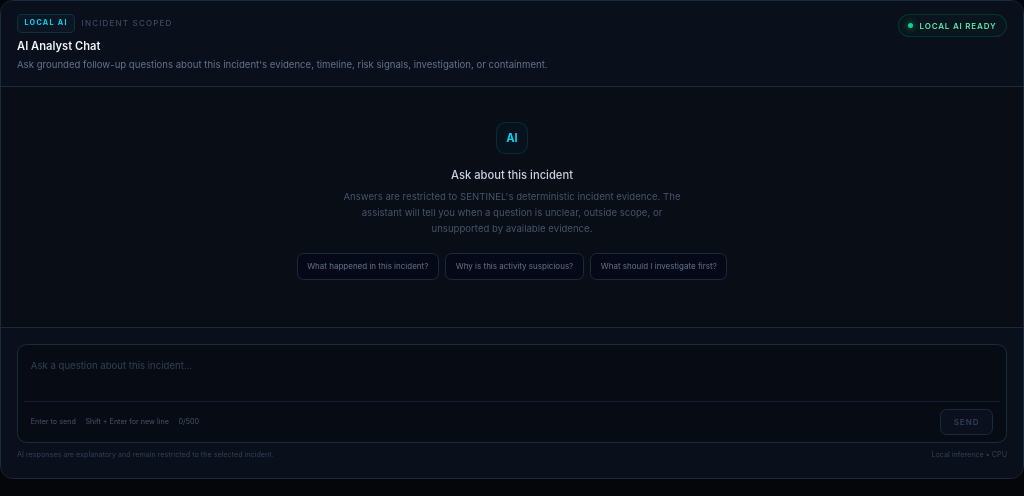
AIAnalystChat › sends a grounded incident question and persists the completed conversation
Type "What evidence makes this incident suspicious?" into the text box with placeholder "Ask a question about this incident...". click: [512, 374]
box: x1=24 y1=351 x2=1000 y2=396
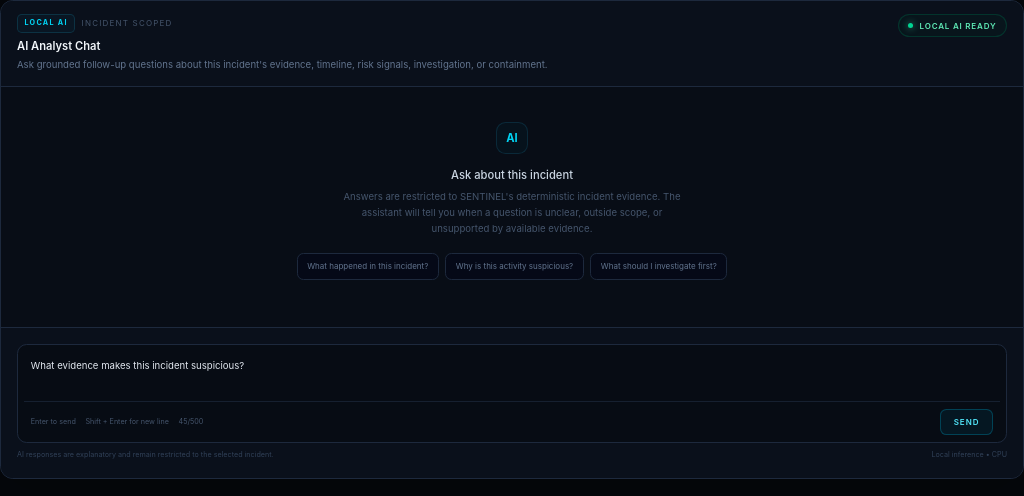
Click the button "Send". click: [967, 422]
box: x1=940 y1=408 x2=993 y2=435
Wait 5000 ms
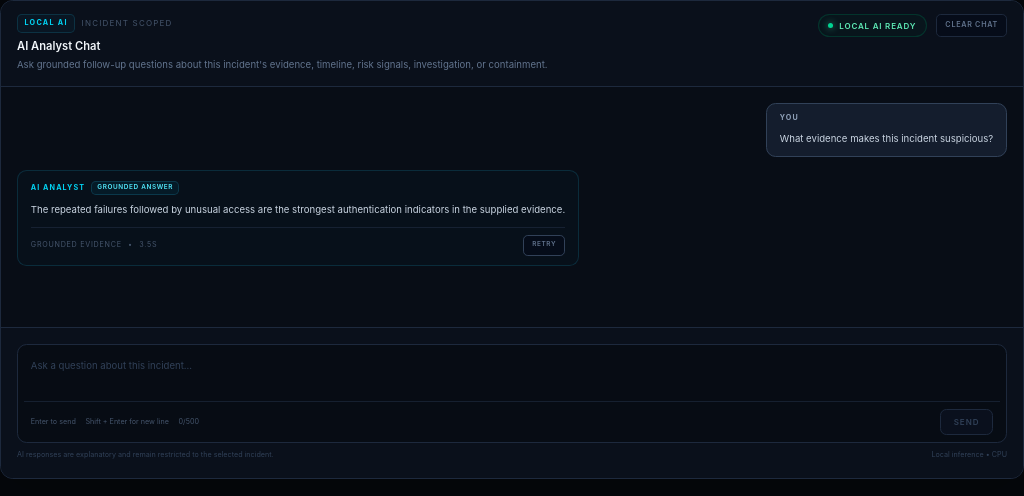
Result: the text "The repeated failures followed by unusual access are the strongest authentication indicators in the supplied evidence." is shown at x1=31 y1=204 x2=565 y2=215
